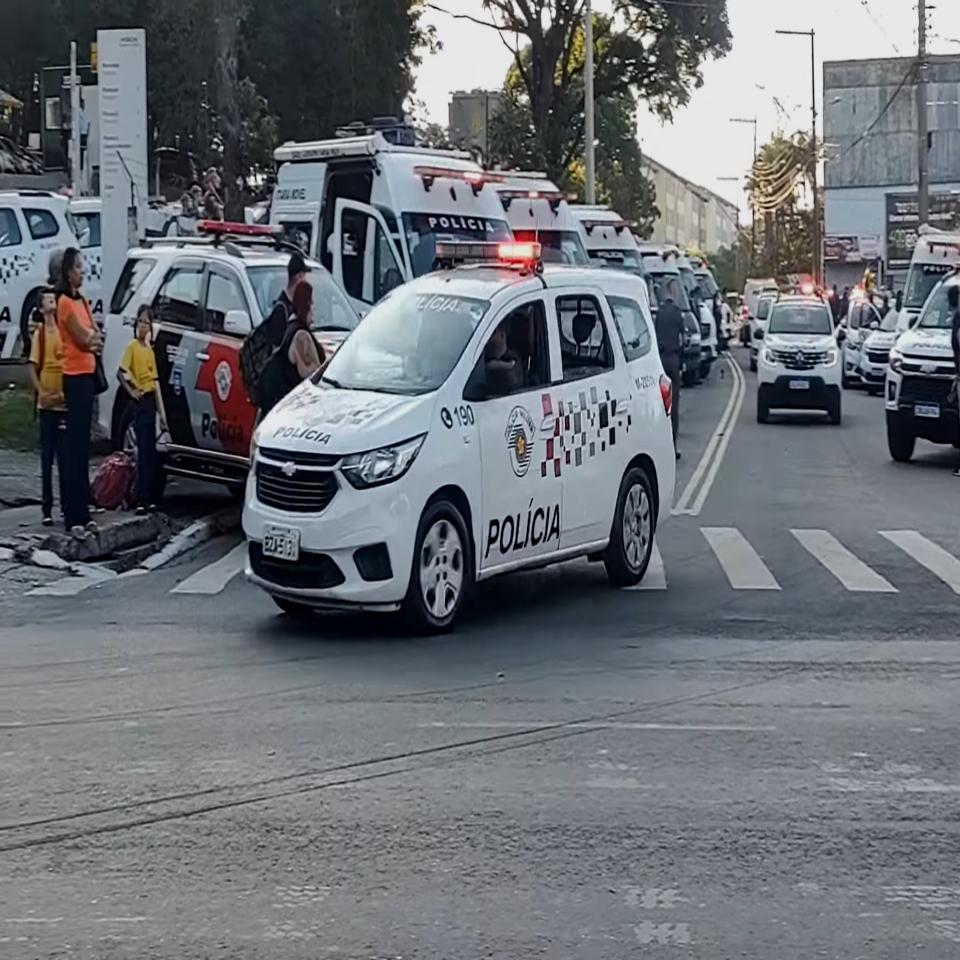viatura: (242, 235, 680, 636), (753, 279, 846, 427)
